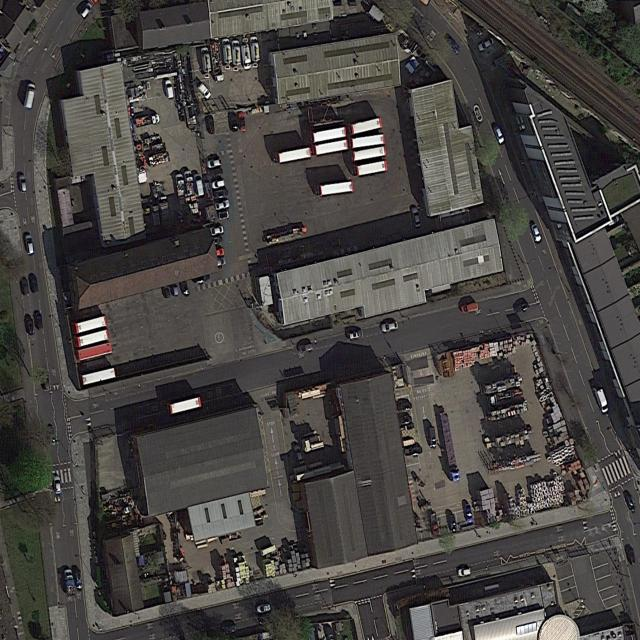large-vehicle: (438, 410, 461, 484), (72, 328, 110, 350), (75, 341, 112, 363), (71, 314, 108, 336), (208, 36, 225, 83), (79, 366, 117, 387), (169, 396, 203, 416), (312, 125, 347, 144), (350, 116, 383, 136), (278, 146, 312, 165), (314, 139, 349, 157), (353, 145, 386, 163), (356, 159, 388, 177), (352, 133, 385, 150), (319, 180, 354, 196), (593, 388, 610, 416), (175, 172, 188, 206), (183, 170, 196, 204), (135, 113, 160, 129), (64, 567, 76, 599), (23, 82, 37, 109), (200, 47, 213, 75), (240, 43, 252, 72), (221, 38, 233, 65), (231, 39, 242, 67), (196, 81, 212, 100), (251, 36, 261, 62)
small-vehicle: (476, 36, 496, 53), (446, 36, 462, 55), (193, 173, 205, 197), (624, 545, 637, 567), (624, 492, 637, 513), (293, 444, 305, 466), (493, 125, 506, 145), (429, 513, 440, 536), (79, 2, 93, 20), (178, 277, 190, 298), (193, 271, 211, 285), (530, 223, 542, 244), (24, 234, 35, 256), (411, 207, 422, 229), (346, 329, 364, 342), (28, 273, 39, 294), (40, 371, 51, 392), (427, 427, 437, 450), (427, 426, 437, 449), (404, 445, 423, 457), (380, 321, 399, 333), (460, 302, 479, 314), (214, 198, 231, 211), (46, 424, 56, 446), (346, 329, 364, 341), (222, 623, 237, 637), (160, 280, 171, 299), (213, 187, 229, 200), (297, 342, 314, 354), (207, 225, 224, 237), (513, 302, 530, 314), (33, 311, 43, 331), (25, 316, 35, 336), (164, 79, 174, 99), (19, 277, 29, 296), (229, 112, 238, 133), (238, 109, 246, 132), (18, 174, 27, 194), (211, 178, 226, 190), (206, 115, 215, 135), (212, 256, 227, 268), (398, 414, 413, 426), (206, 158, 222, 169), (465, 504, 474, 523), (53, 476, 62, 495), (447, 514, 457, 531), (458, 566, 472, 578), (208, 235, 223, 246), (397, 401, 412, 412), (170, 280, 179, 298), (75, 571, 83, 591), (210, 248, 224, 259), (208, 168, 223, 178), (256, 603, 271, 613), (218, 210, 229, 221)
